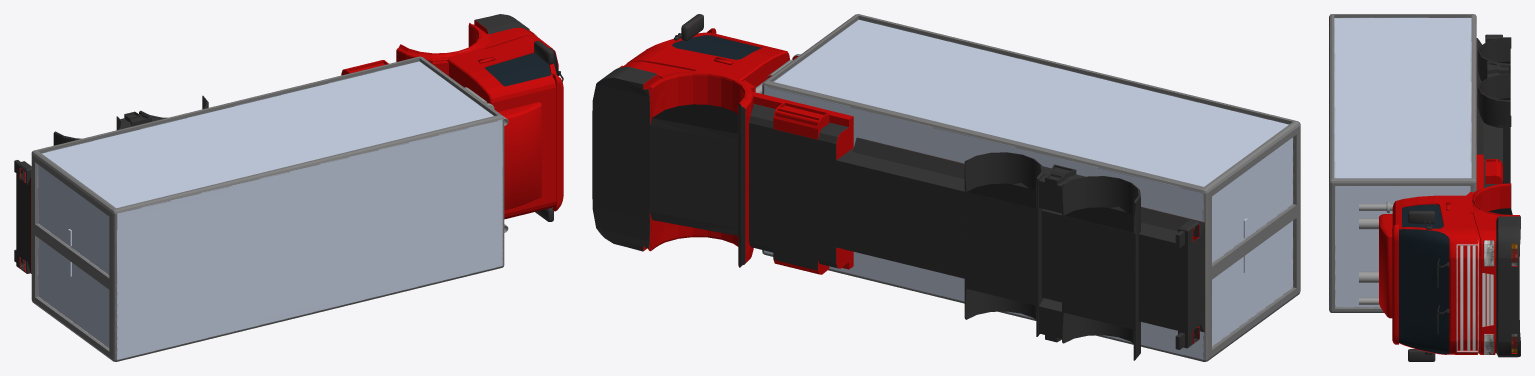
File: truck_chassis_red.obj
3 renders of one model, left to right at view 1: azimuth 30°, elevation 25°; view 2: azimuth 150°, elevation 25°; view 3: azimuth 270°, elevation 25°, orthographic. The views are drawn at different scales.
Parts seen in each view (by area): view 1: Truck_Chassis_0409; view 2: Truck_Chassis_0409; view 3: Truck_Chassis_0409.
Part boxes in pixels (bbox=[...]): Truck_Chassis_0409: bbox=[14, 14, 563, 361]; Truck_Chassis_0409: bbox=[592, 14, 1300, 361]; Truck_Chassis_0409: bbox=[1329, 14, 1520, 361].
Size of the model in its own units: 11.48 by 3.64 by 4.21.
Materials: 3 (3 with a texture image).
